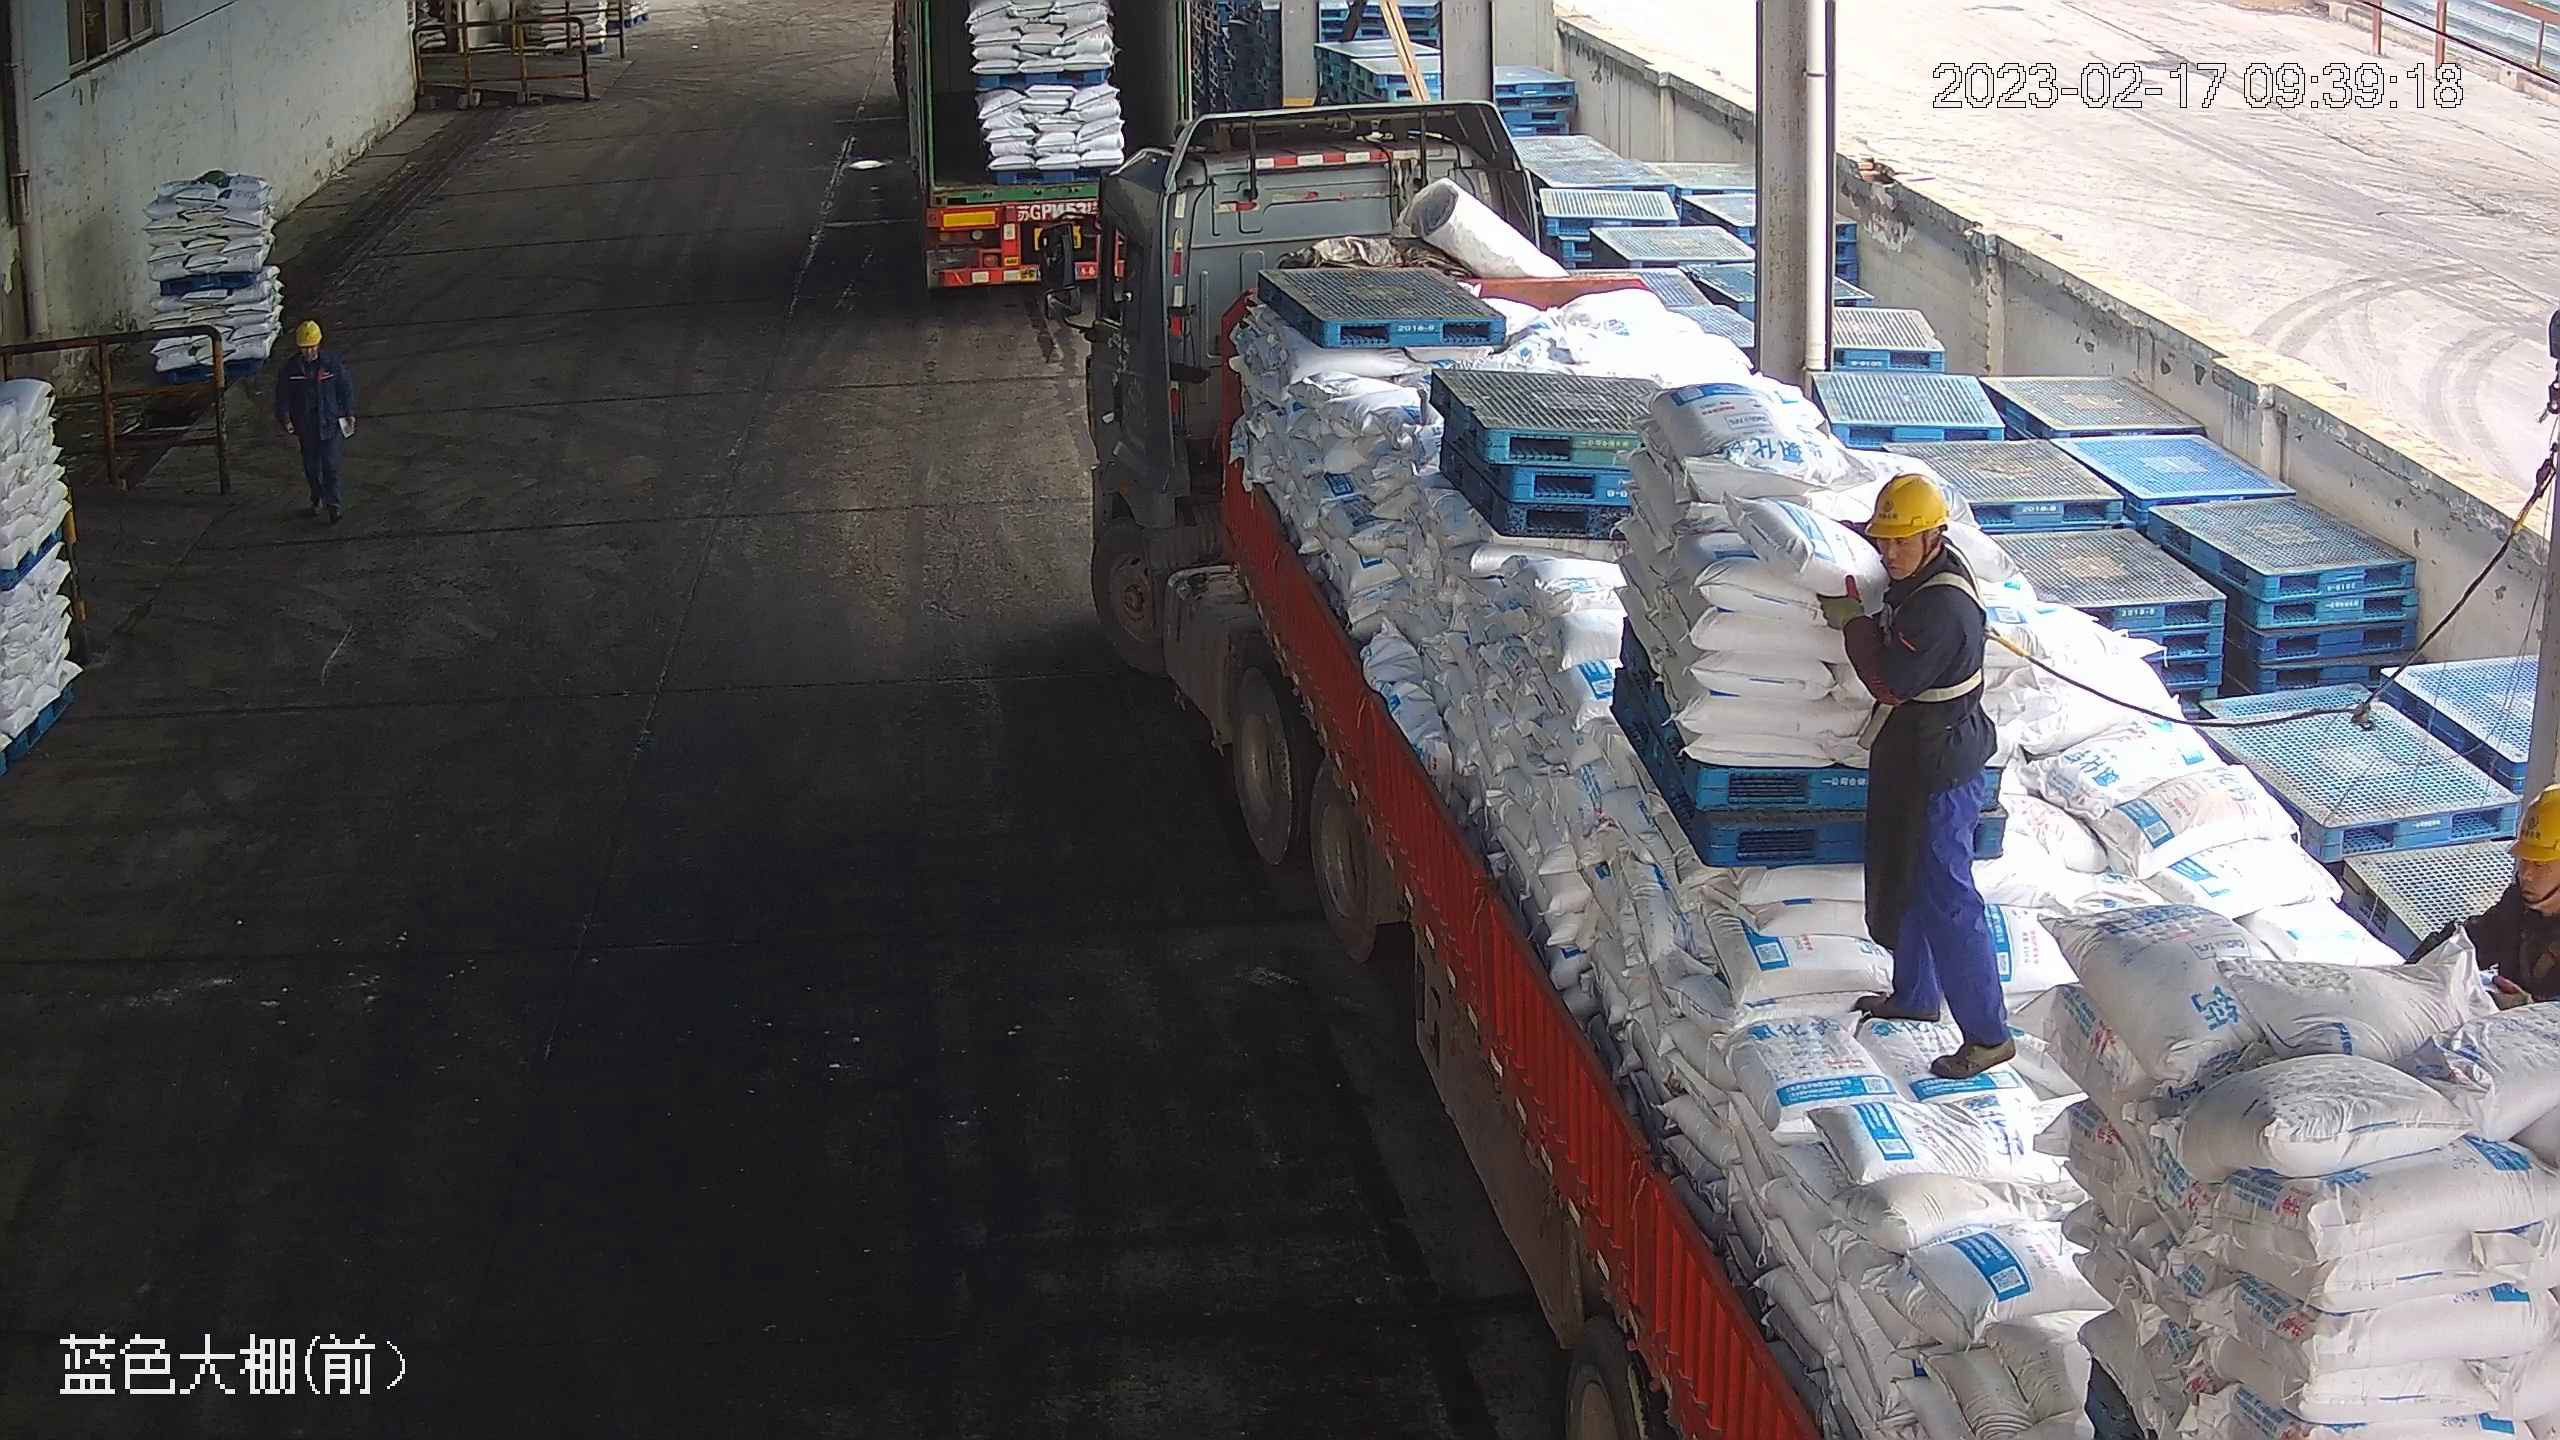belt: (1890, 552, 2003, 705), (2521, 893, 2560, 974)
head: (1834, 470, 1989, 638), (274, 318, 348, 384)
helmet: (1858, 469, 1955, 538), (2507, 777, 2560, 864), (294, 318, 323, 344)
people: (1814, 471, 2023, 1076), (272, 316, 356, 523)
truck: (1036, 99, 2555, 1436), (892, 1, 1181, 290)
